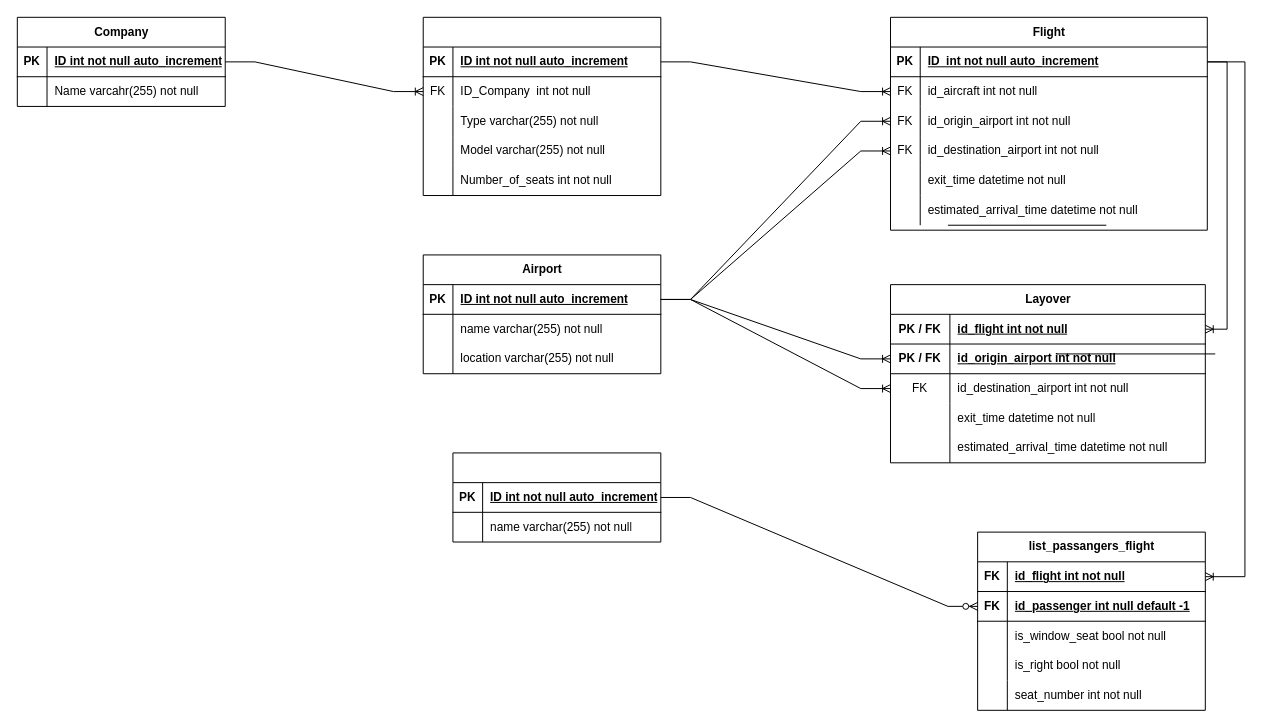
Some shapes in this 1270 by 728 pixel diagram are drawn without their labels. Each missing label, with the box of its shape:
Aircraft: (422, 16, 661, 196)
Passenger: (452, 452, 661, 542)
